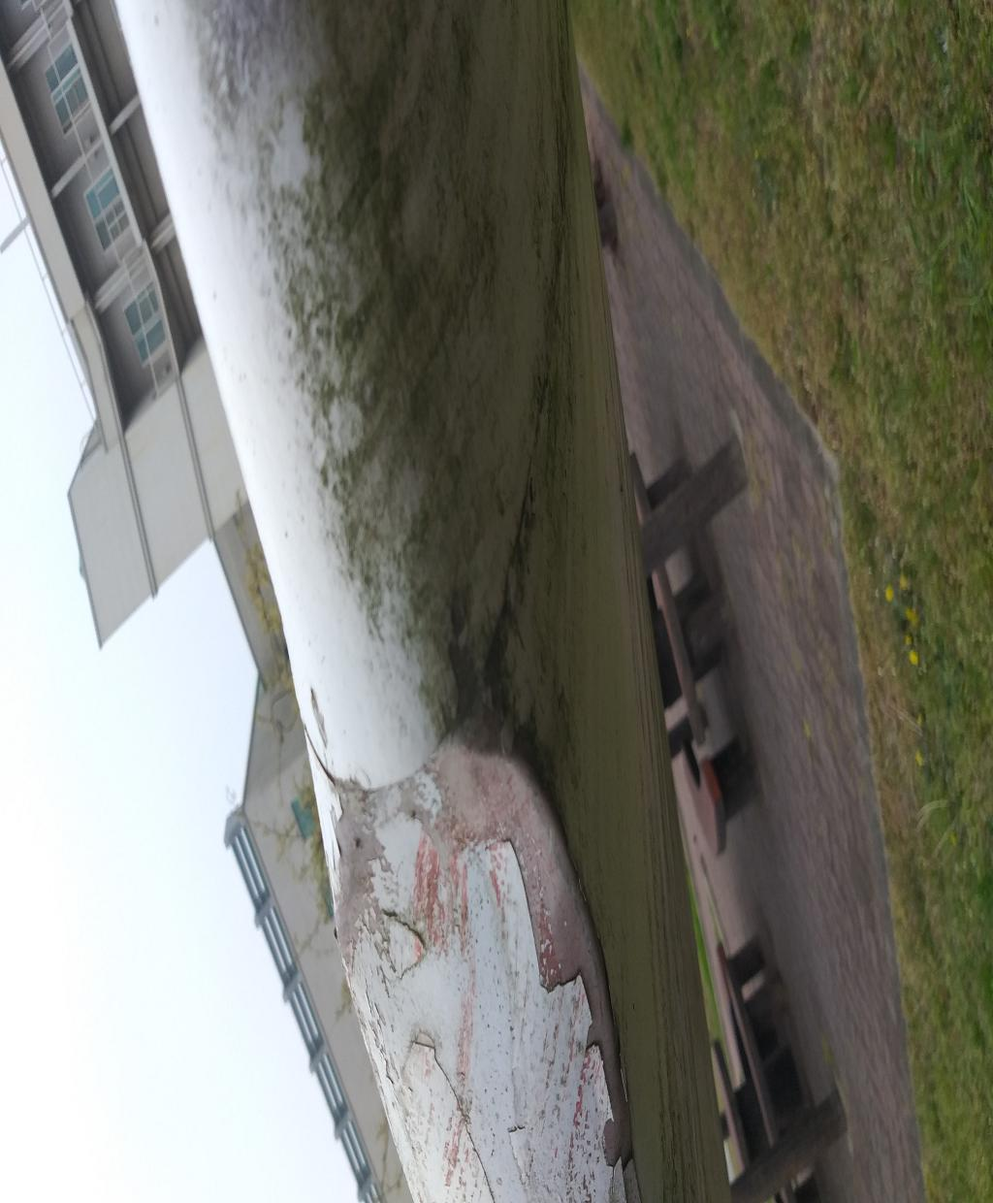corrosion: (0, 678, 214, 1203)
